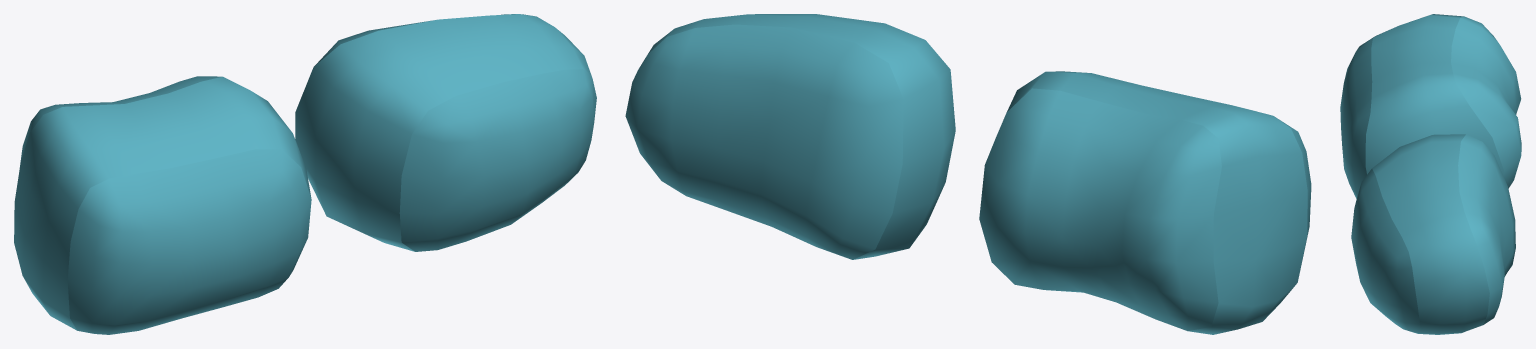
File: bullet.fbx
The picture shows the model from 3 angles, left to right: view 1: azimuth 30°, elevation 25°; view 2: azimuth 150°, elevation 25°; view 3: azimuth 270°, elevation 25°; orthographic projection. The views are drawn at different scales.
Visible parts, largest first — view 1: Alpha_Surface.002; view 2: Alpha_Surface.002; view 3: Alpha_Surface.002.
Boxes of the visible parts, x1=… form: Alpha_Surface.002: x1=14, y1=14, x2=596, y2=334; Alpha_Surface.002: x1=625, y1=14, x2=1311, y2=334; Alpha_Surface.002: x1=1340, y1=14, x2=1521, y2=334.
Bounding box in the file's own units: 6.35 × 2.13 × 2.25.
